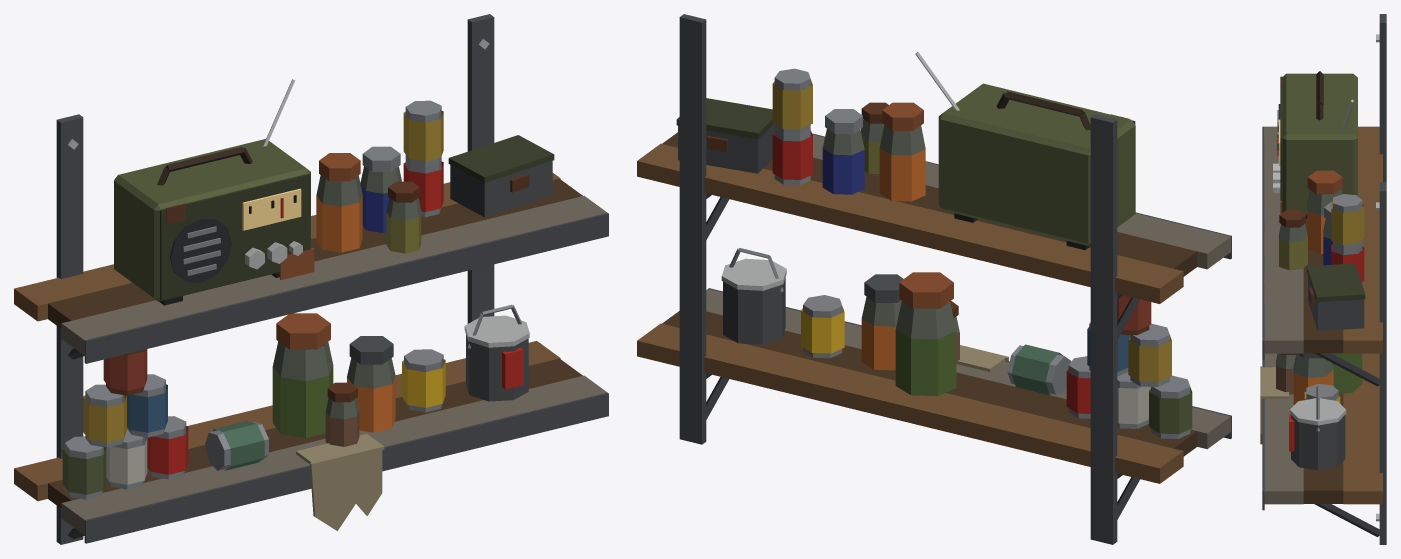
The model's file is bunker_shelf.fbx.
3 renders of one model, left to right at view 1: azimuth 30°, elevation 25°; view 2: azimuth 150°, elevation 25°; view 3: azimuth 270°, elevation 25°, orthographic. The views are drawn at different scales.
Visible parts, largest first — view 1: bunker_shelf; view 2: bunker_shelf; view 3: bunker_shelf.
Part boxes in pixels (box(x1,y1,x2,y2)): bunker_shelf: box(14, 14, 608, 544); bunker_shelf: box(637, 14, 1231, 544); bunker_shelf: box(1260, 14, 1386, 544).
Size of the model in its own units: 1.4 by 1.09 by 0.35.
